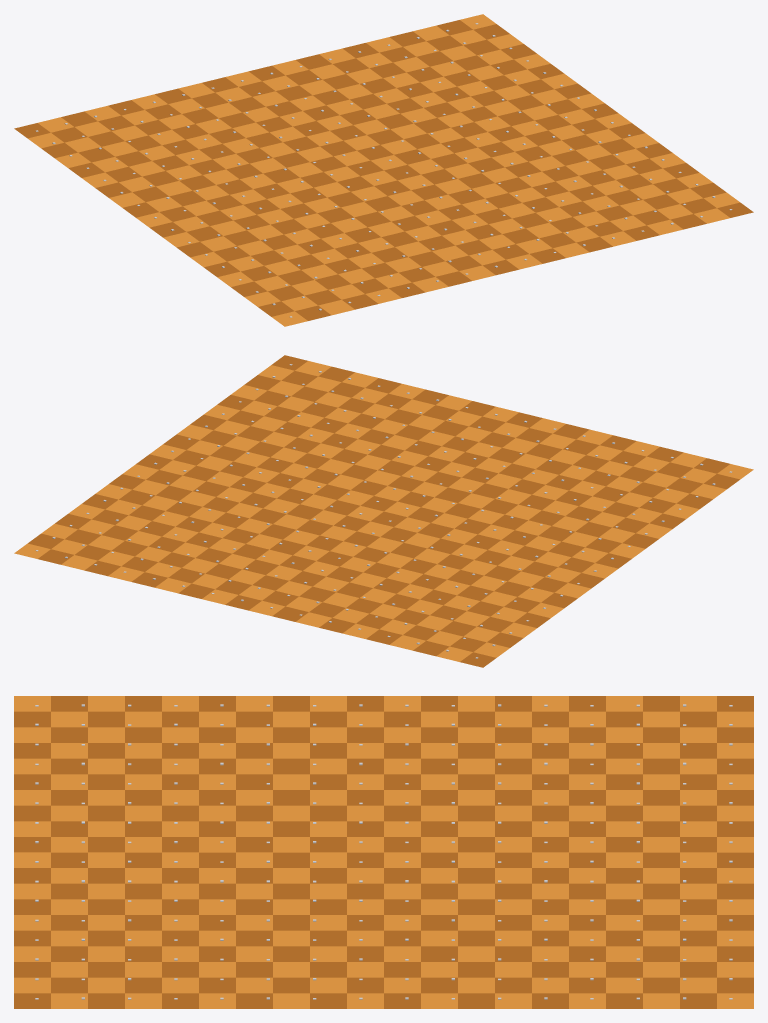
The model's file is ground.glb.
The picture shows the model from 3 angles, top to bottom: view 1: azimuth 30°, elevation 25°; view 2: azimuth 150°, elevation 25°; view 3: azimuth 270°, elevation 25°; orthographic projection. The views are drawn at different scales.
Parts seen in each view (by area): view 1: body; view 2: body; view 3: body.
Part boxes in pixels (<box>): body: <box>14,14,753,326</box>; body: <box>14,355,753,667</box>; body: <box>14,696,753,1008</box>.
Bounding box in the file's own units: 40000 × 60 × 40000.
